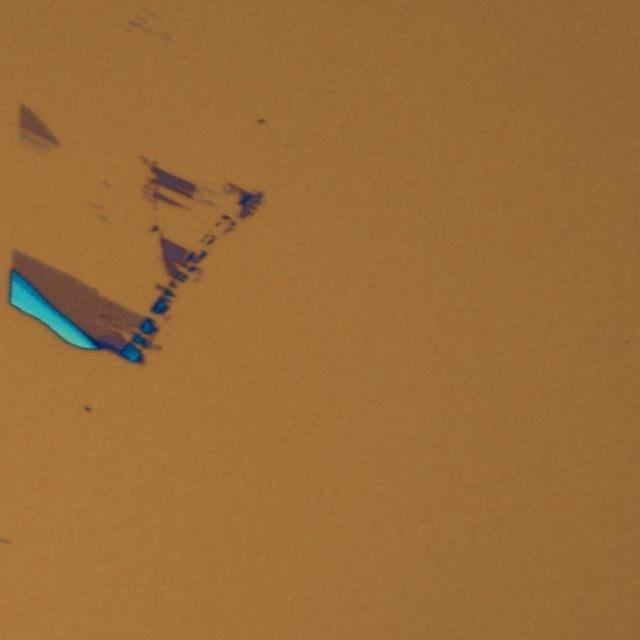monolayer-eWW4: (10, 245, 144, 340), (0, 99, 62, 144)
